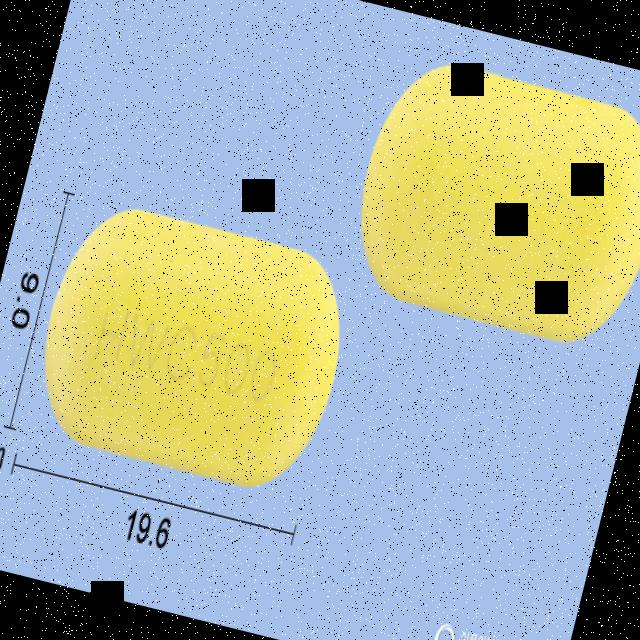Clacid: (16, 182, 372, 513)
